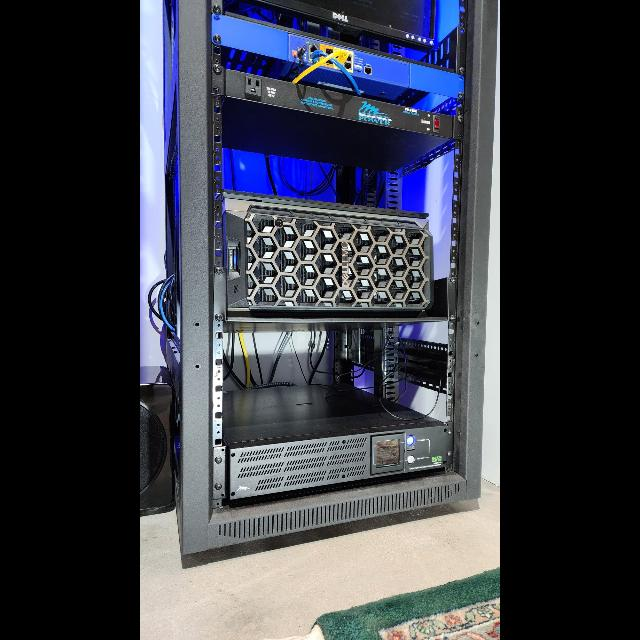Server: (160, 1, 492, 576)
